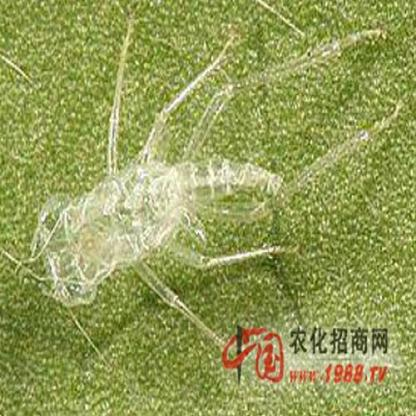Green-Leafhopper: (34, 37, 384, 320)
